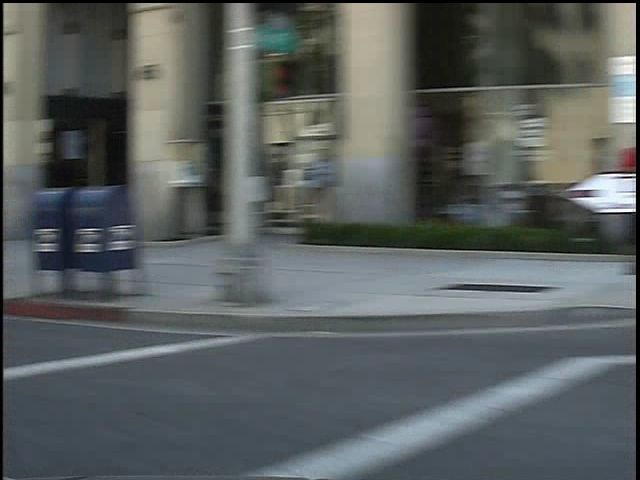person: (594, 117, 637, 282)
